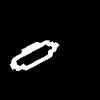chain: (10, 41, 58, 70)
